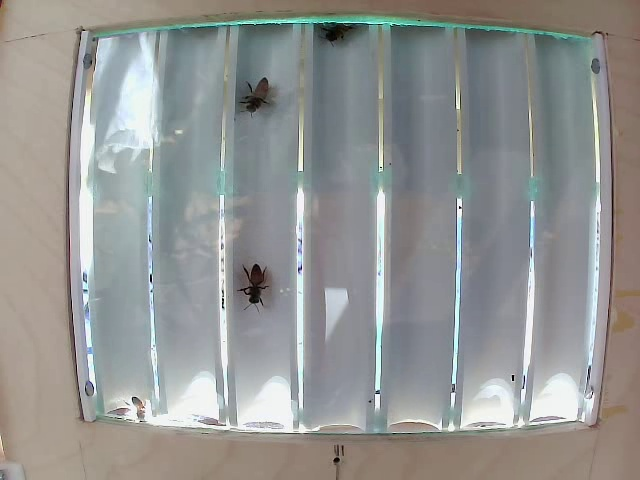bee: (236, 255, 282, 308), (239, 73, 273, 120)
